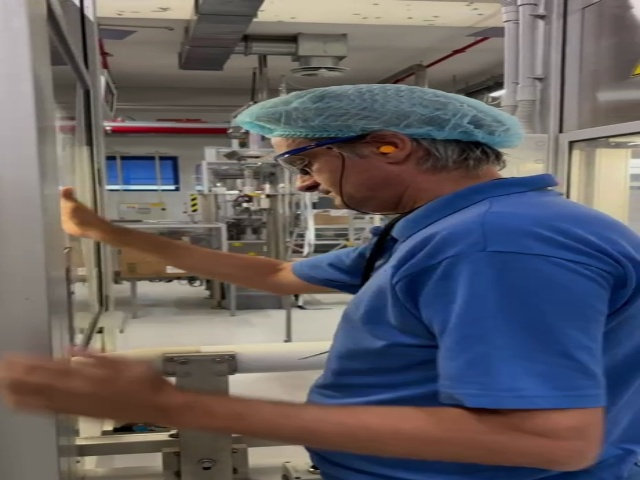Earplug: (368, 132, 413, 162)
Hairnet: (237, 86, 524, 145)
No_Helmet: (239, 87, 524, 144)
No_Vest: (302, 220, 640, 480)
Person: (1, 83, 640, 480)
Safety_Goggles: (272, 135, 368, 176)
